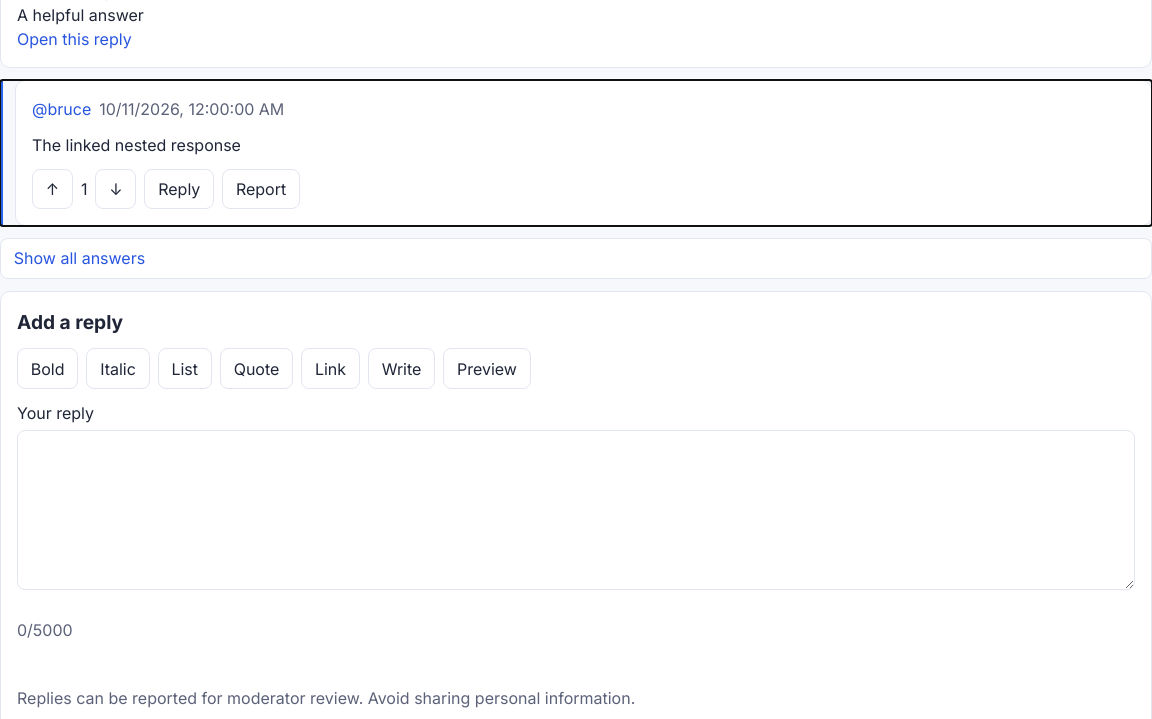
opens a linked nested reply with its parent context without paging through ranked answers
(page scrolled)
Expected: the text "The linked nested response" is shown, [32,135,241,155]
Expected: the text "A helpful answer" is shown, [17,5,144,25]
Click the link "Show all answers".
click(48, 258)  # box [0,238,1151,279]
(page scrolled)
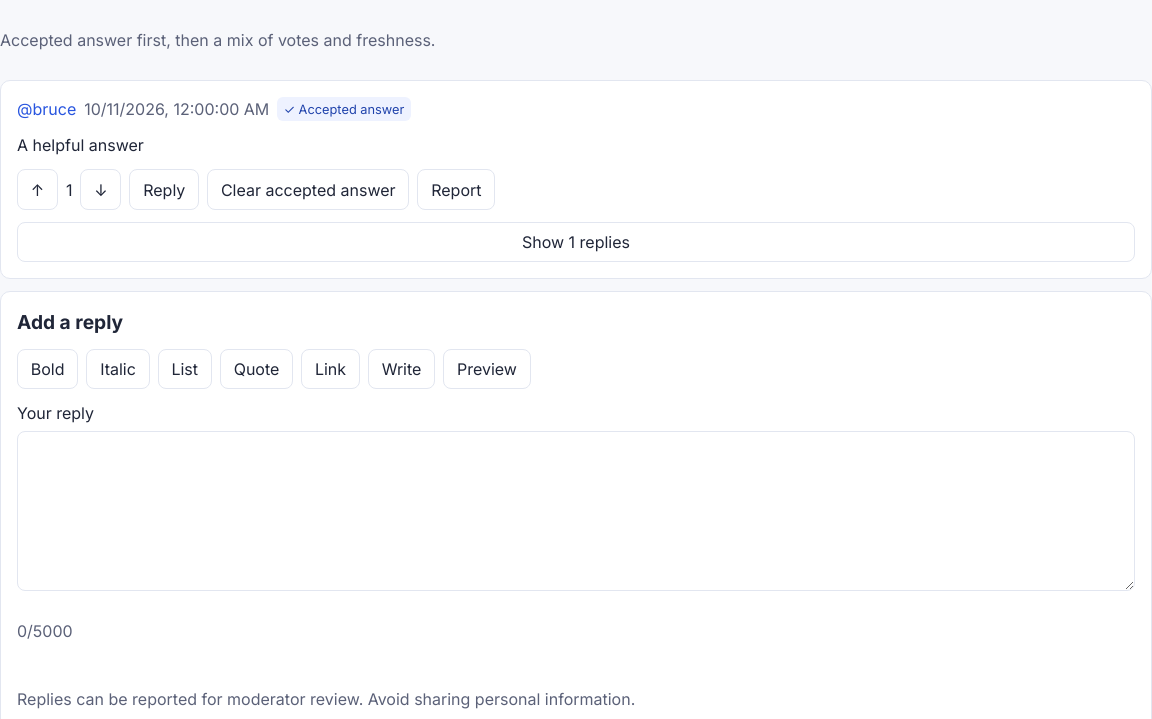
Expected: the button "Clear accepted answer" is shown, [207,169,409,210]
